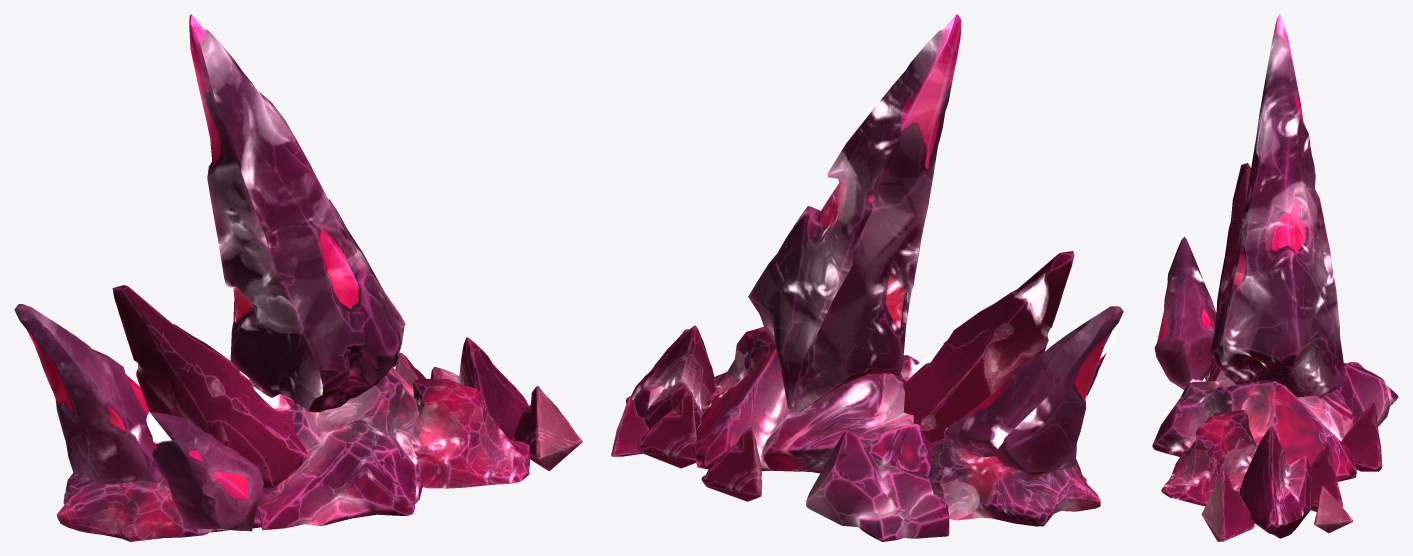
Rendered from TremorCrystal_A.fbx.
3 renders of one model, left to right at view 1: azimuth 30°, elevation 25°; view 2: azimuth 150°, elevation 25°; view 3: azimuth 270°, elevation 25°, orthographic. The views are drawn at different scales.
Visible parts, largest first — view 1: Dn_HL_TremorCrystal_A.001; view 2: Dn_HL_TremorCrystal_A.001; view 3: Dn_HL_TremorCrystal_A.001.
Boxes of the visible parts, x1,y1,x2,y2 form: Dn_HL_TremorCrystal_A.001: [14, 14, 582, 541]; Dn_HL_TremorCrystal_A.001: [611, 14, 1123, 541]; Dn_HL_TremorCrystal_A.001: [1152, 14, 1398, 541].
Size of the model in its own units: 8994 by 8431 by 4559.
Materials: 2 (2 with a texture image).
